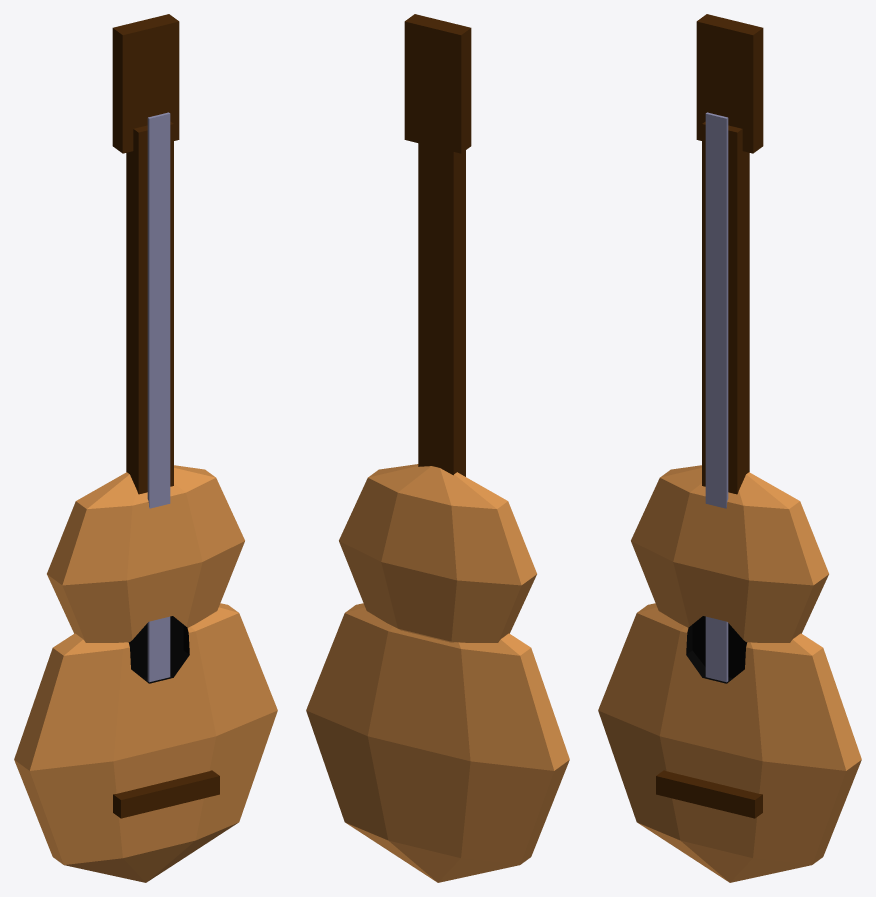
File: guitar.glb
3 renders of one model, left to right at view 1: azimuth 30°, elevation 25°; view 2: azimuth 150°, elevation 25°; view 3: azimuth 330°, elevation 25°, orthographic.
Visible parts, largest first — view 1: root; view 2: root; view 3: root.
Part boxes in pixels (<box>): root: <box>14,14,277,882</box>; root: <box>306,14,569,882</box>; root: <box>598,14,861,882</box>.
Bounding box in the file's own units: 0.3511 × 1.16 × 0.1062.
